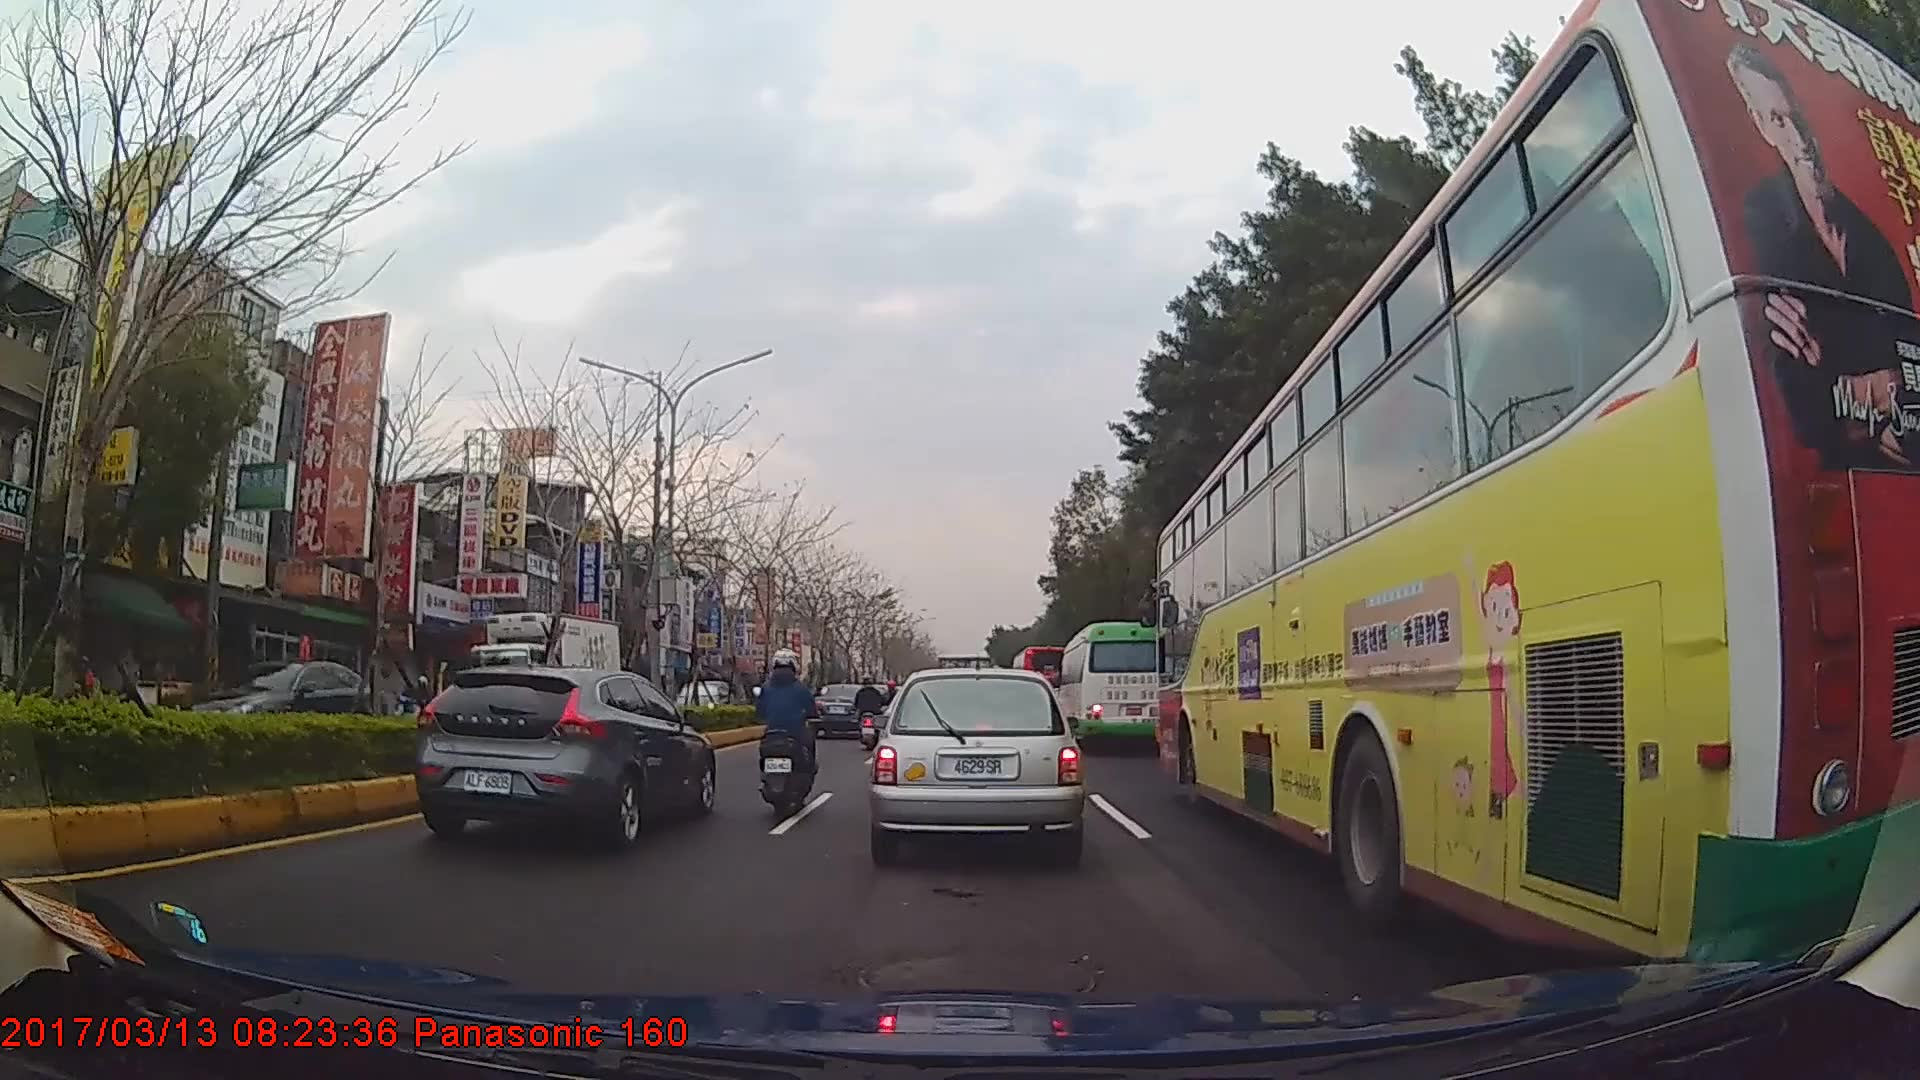rider: (754, 650, 824, 809), (855, 678, 889, 749), (395, 677, 434, 718)
vehicle: (1155, 0, 1920, 993), (412, 663, 717, 848), (869, 672, 1082, 867), (443, 608, 629, 753), (181, 659, 383, 774), (1054, 622, 1173, 753), (1009, 643, 1073, 715), (811, 682, 881, 737)
